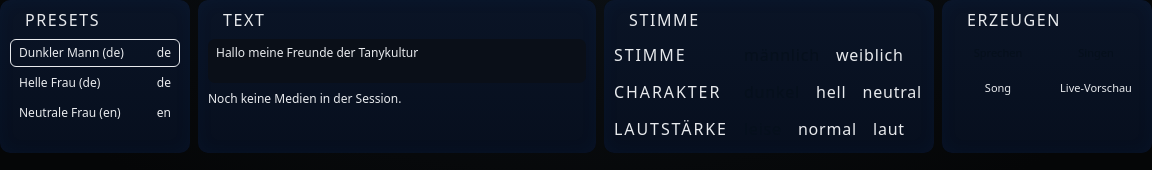
Test: VoiceMonkPanel (jsdom) › generiert einen Song und legt ihn als song ab
Click the button "Song".
click(998, 88)  # box [952,74,1044,102]
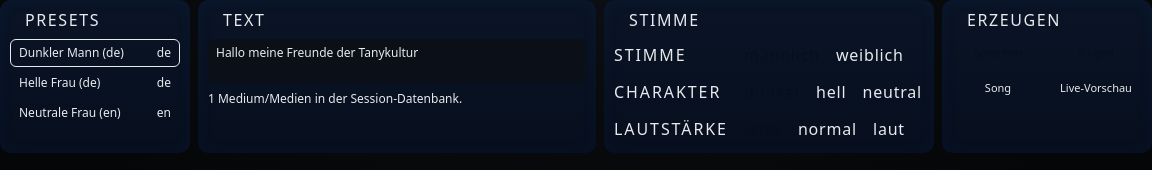
Expected: the text "1 Medium/Medien in der Session-Datenbank." is shown, [208,90,462,107]
